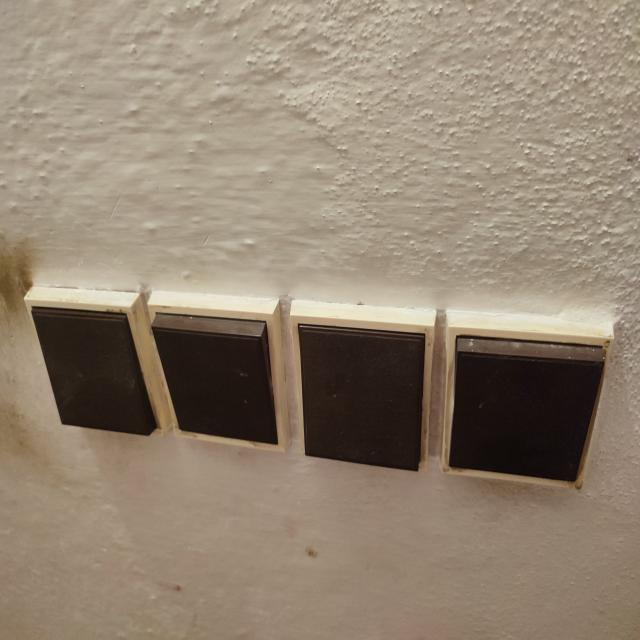house switch: (438, 310, 614, 490), (290, 299, 437, 471), (146, 290, 291, 451), (24, 285, 172, 437)
